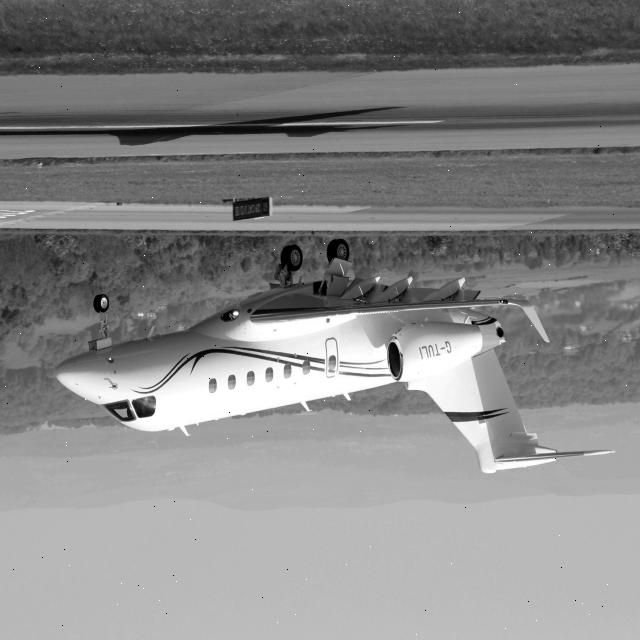jet: (21, 243, 620, 512)
